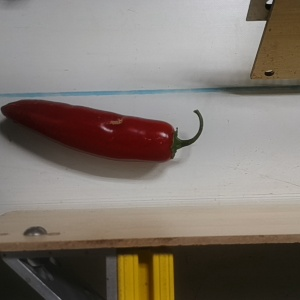Cut Point: (156, 119, 185, 163)
